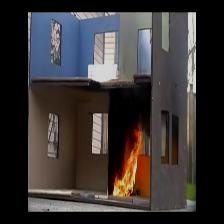fire: (107, 128, 148, 200)
